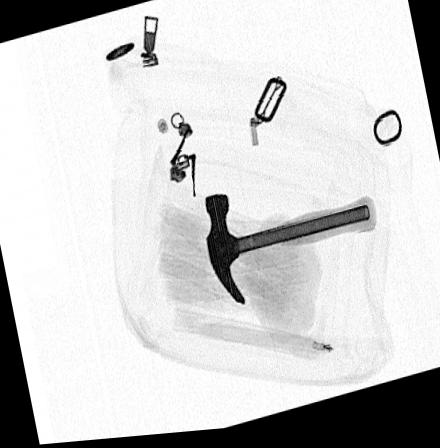Hammer: (204, 198, 376, 309)
